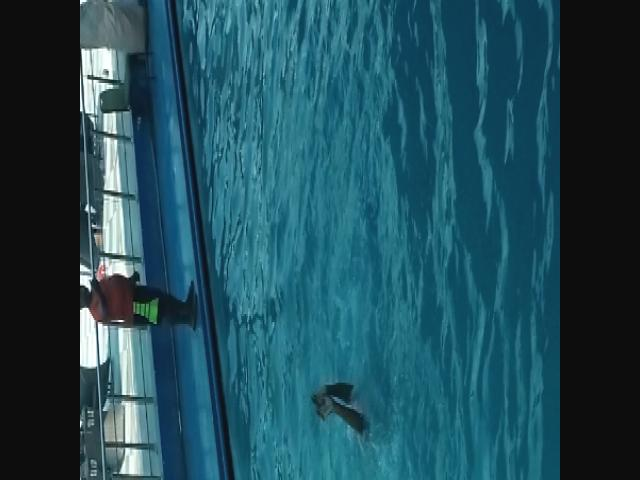drowning: (313, 364, 377, 447)
out of water: (80, 271, 200, 333)
